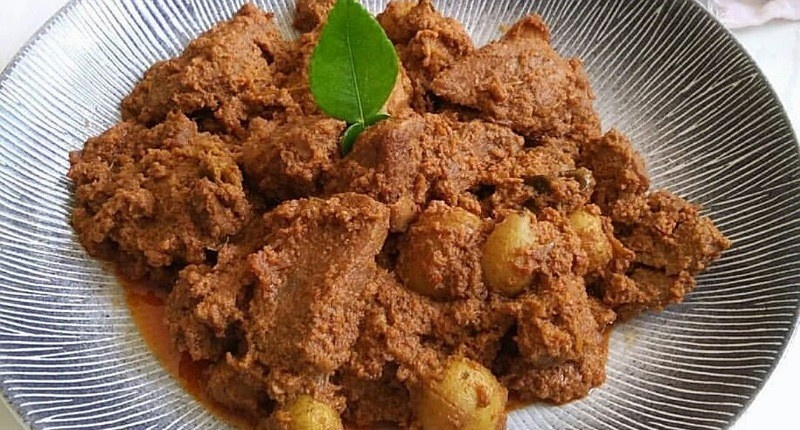rendang: (44, 109, 722, 373)
